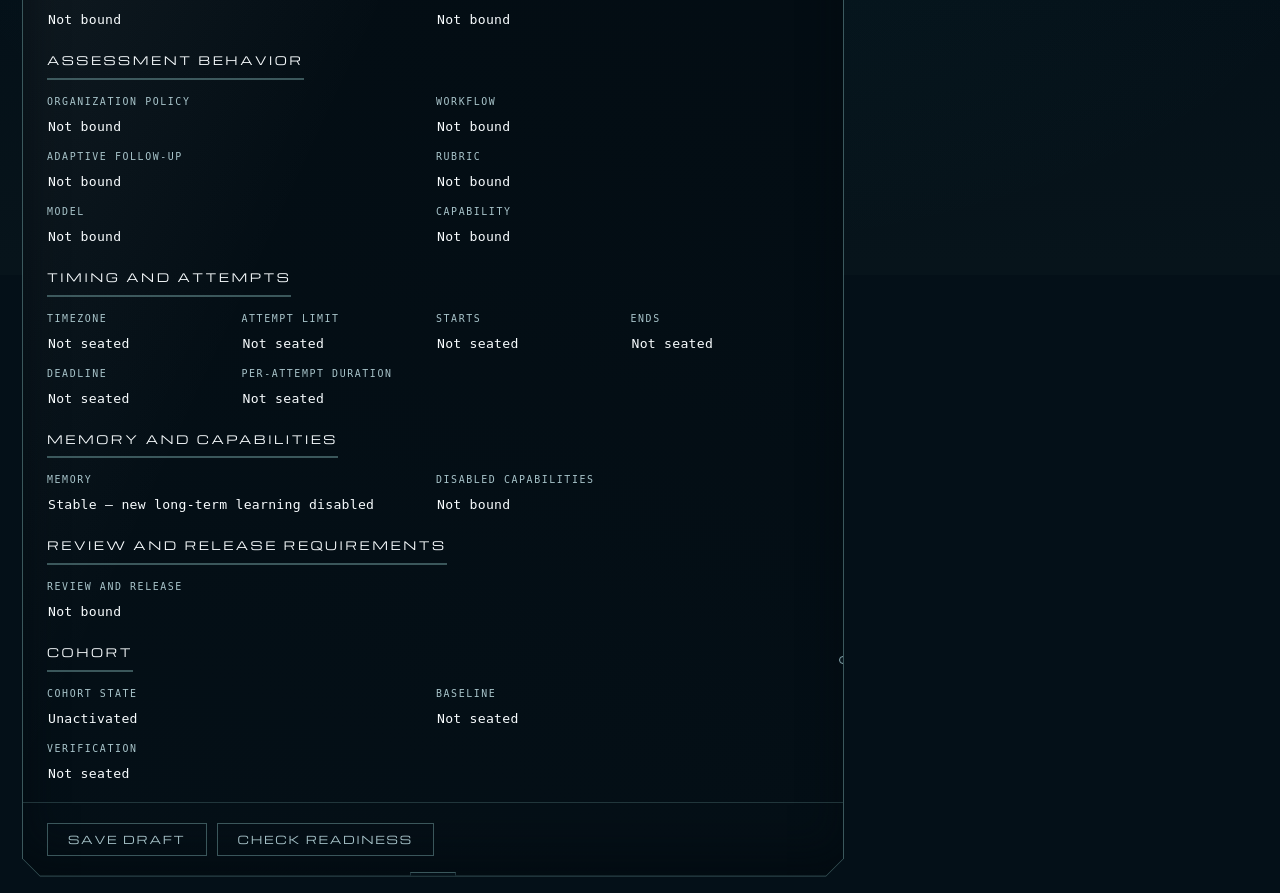
it: AssessmentSetupPage › keeps one summary when a save error lands on an already blocked revision
(page scrolled)
Click the button "Save draft" at [127, 839], box [47,823,206,856]
(page scrolled)
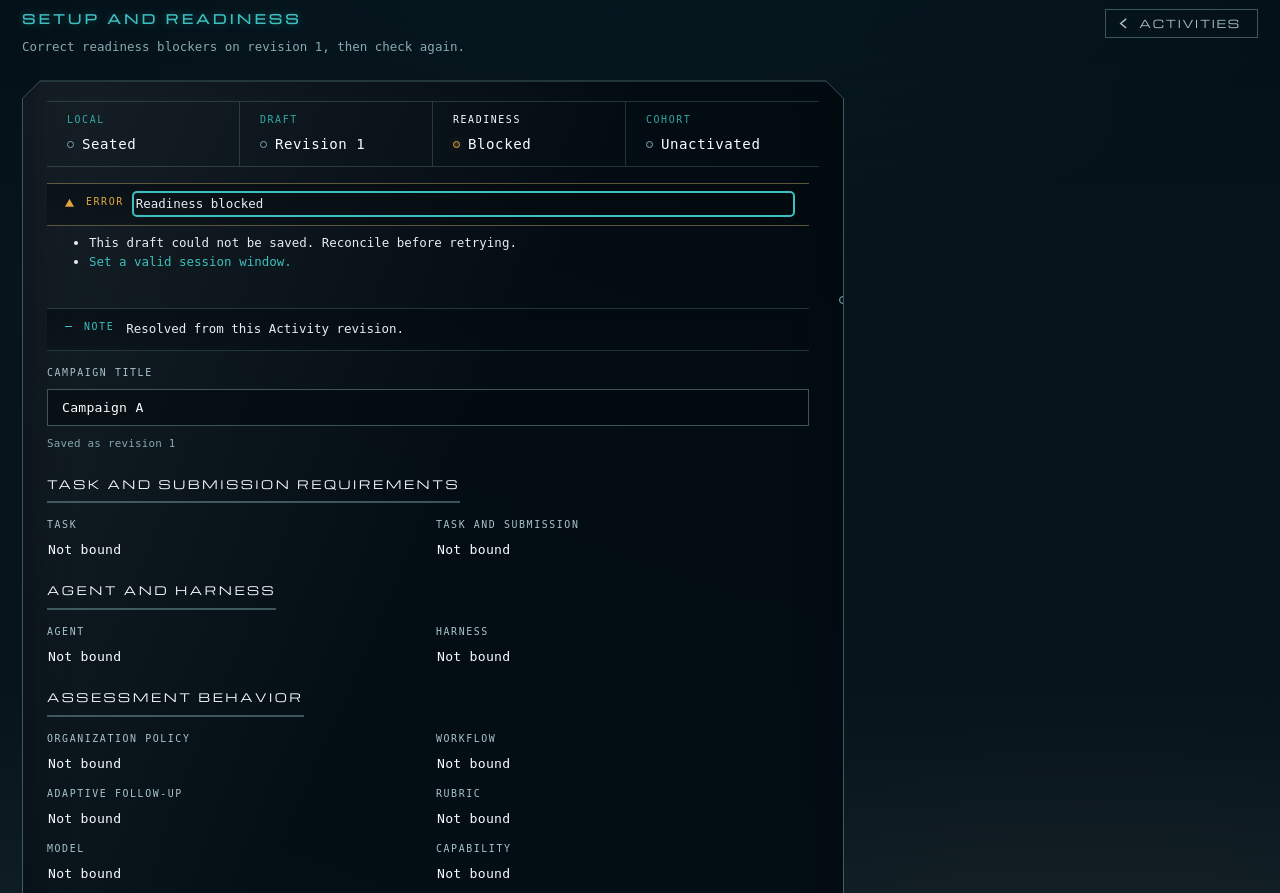
Expected: the heading "Readiness blocked" is shown, [136,196,263,211]
Now the list item "This draft could not be saved. Reconcile before retrying." is shown, box [89,235,517,250]
